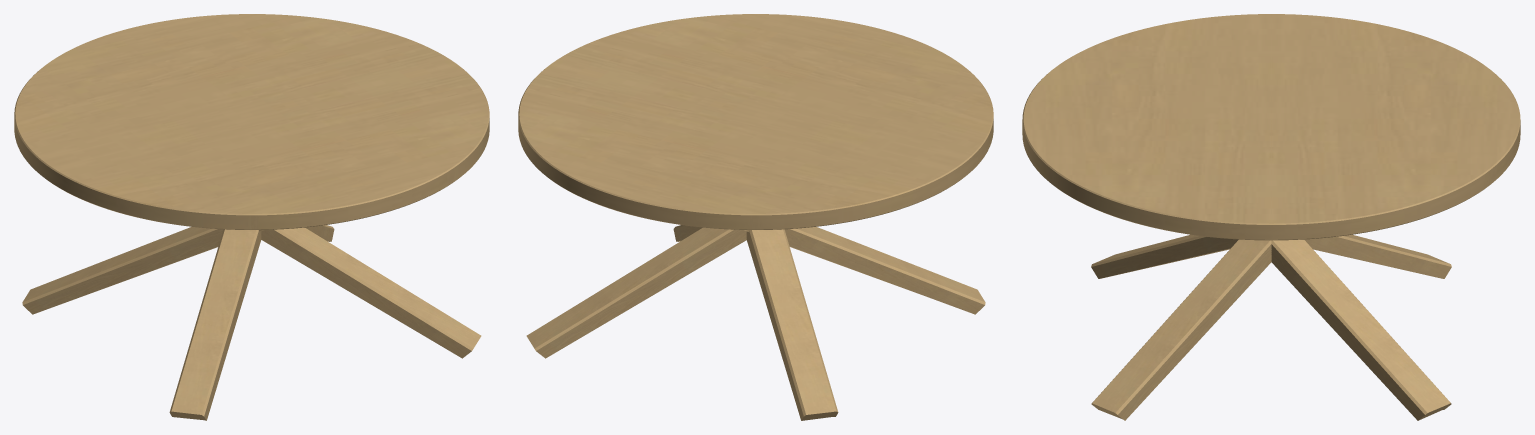
File: round-beech.glb
3 views of the same model, side by side, from view 1: azimuth 30°, elevation 25°; view 2: azimuth 150°, elevation 25°; view 3: azimuth 270°, elevation 25° (orthographic). The views are drawn at different scales.
Parts seen in each view (by area): view 1: Wood_Round, Base_Round; view 2: Wood_Round, Base_Round; view 3: Wood_Round, Base_Round.
Boxes of the visible parts, box(x1,y1,x2,y2) form: Wood_Round: box(14, 14, 489, 229); Base_Round: box(22, 225, 481, 420); Wood_Round: box(518, 14, 993, 229); Base_Round: box(526, 225, 985, 420); Wood_Round: box(1022, 14, 1520, 240); Base_Round: box(1091, 234, 1451, 420).
Size of the model in its own units: 1.52 by 0.762 by 1.52.
Materials: 1 (1 with a texture image).
